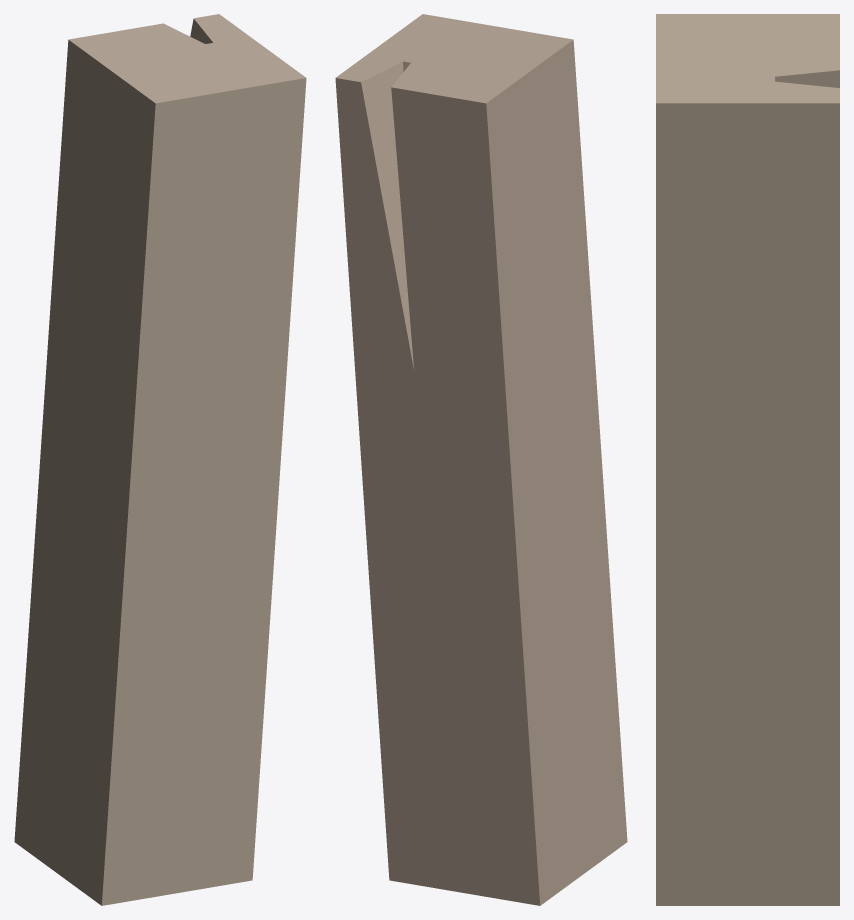
Rendered from Prop_Fence_Post_4.glb.
3 renders of one model, left to right at view 1: azimuth 30°, elevation 25°; view 2: azimuth 150°, elevation 25°; view 3: azimuth 270°, elevation 25°, orthographic. The views are drawn at different scales.
Parts seen in each view (by area): view 1: object1; view 2: object1; view 3: object1.
Part boxes in pixels (box(x1,y1,x2,y2)): object1: box(14, 14, 306, 905); object1: box(335, 14, 627, 905); object1: box(656, 14, 839, 905).
Size of the model in its own units: 0.2031 by 0.7588 by 0.15.
